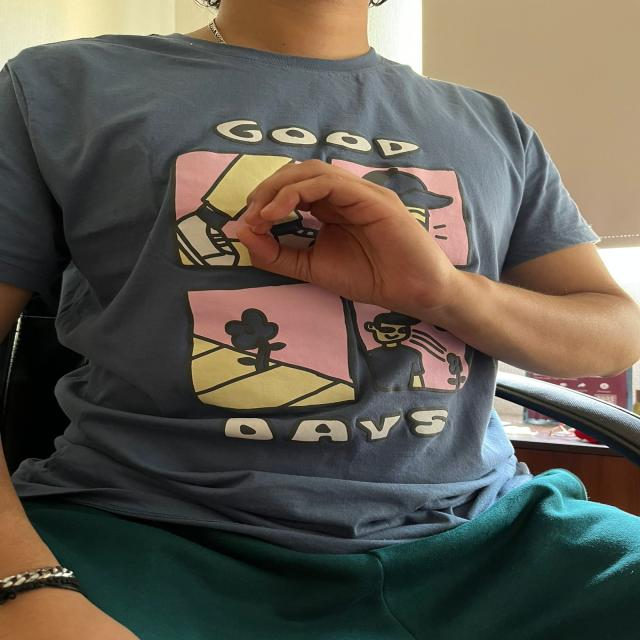O: (231, 150, 445, 315)
